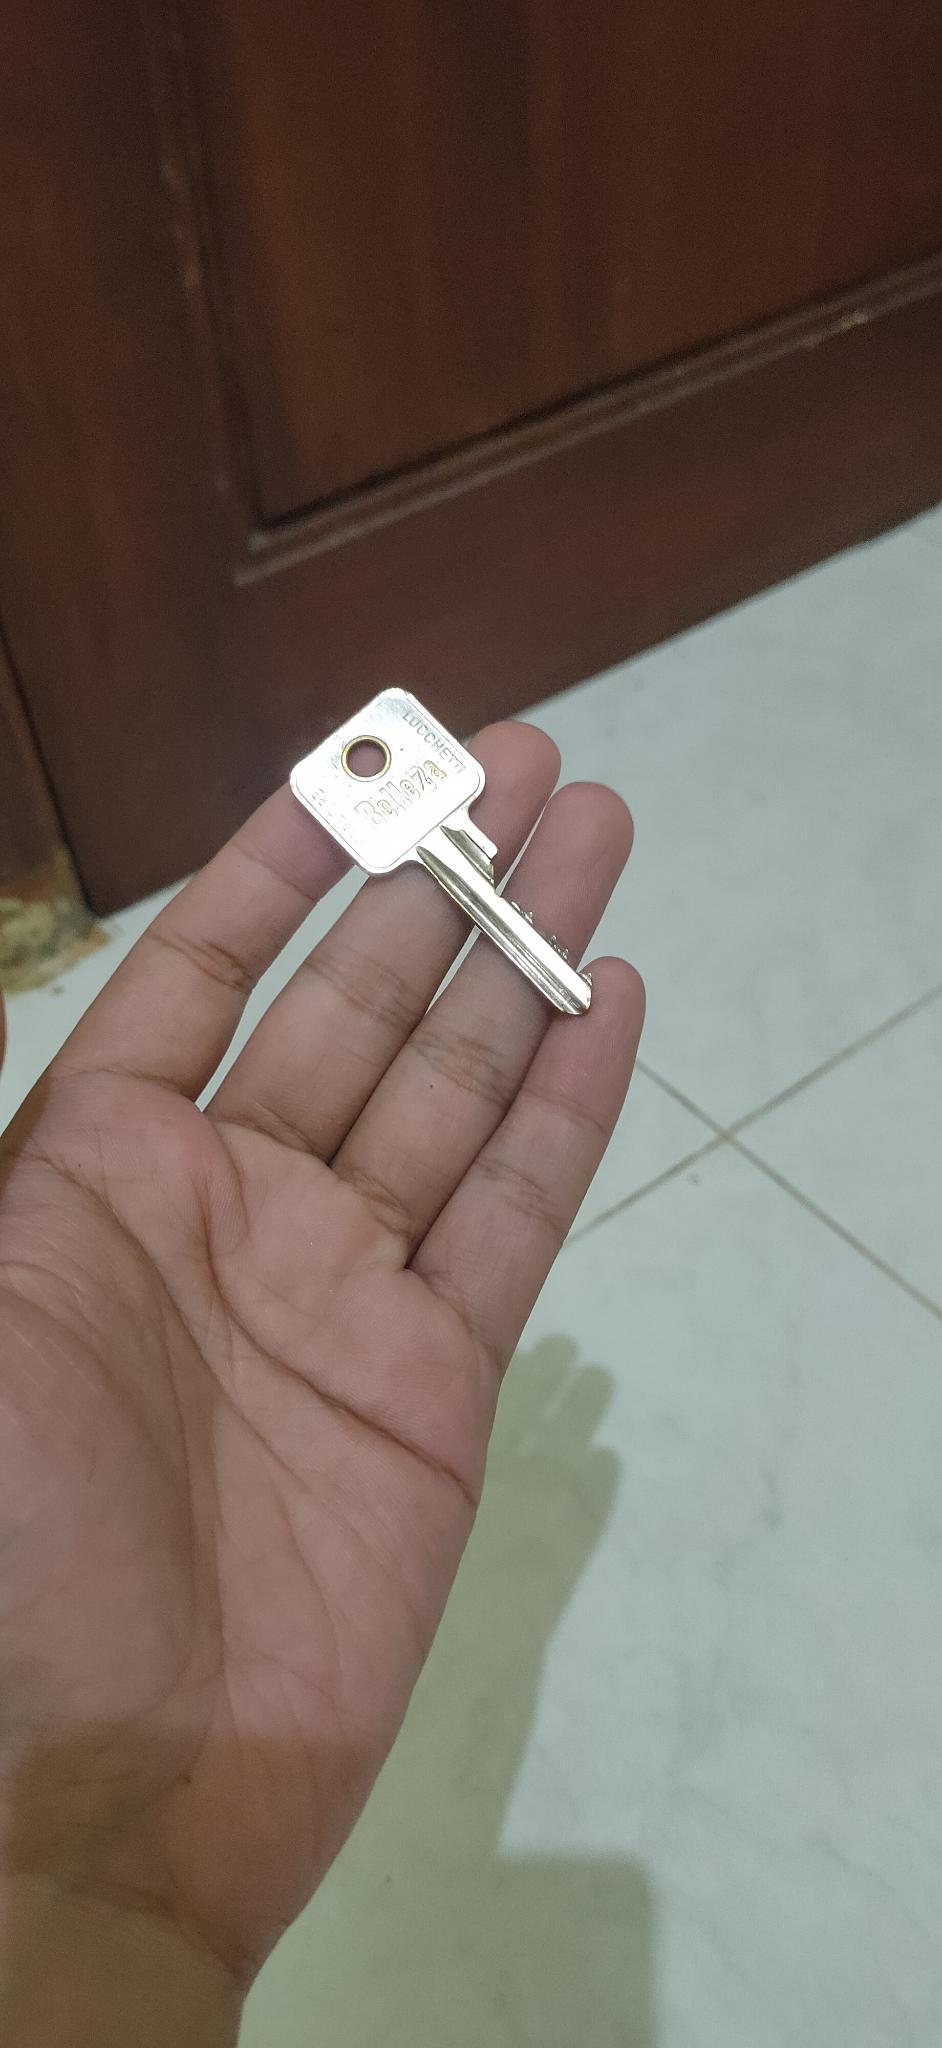keys: (278, 666, 614, 1034)
